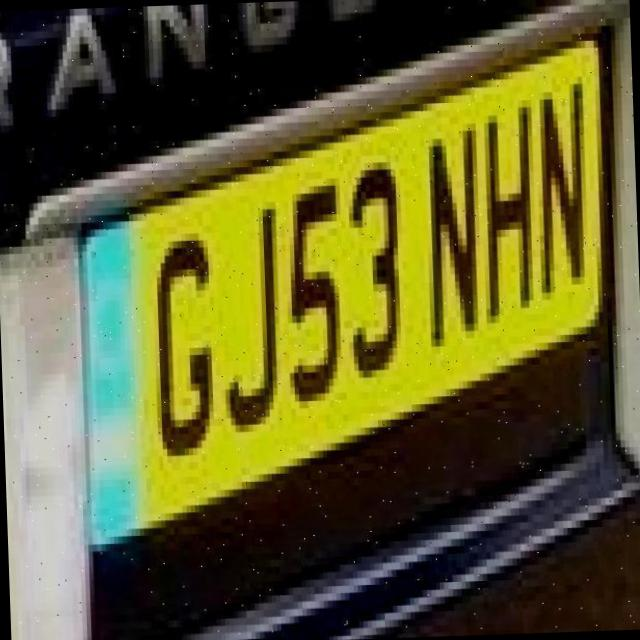LicensePlate: (14, 3, 640, 606)
